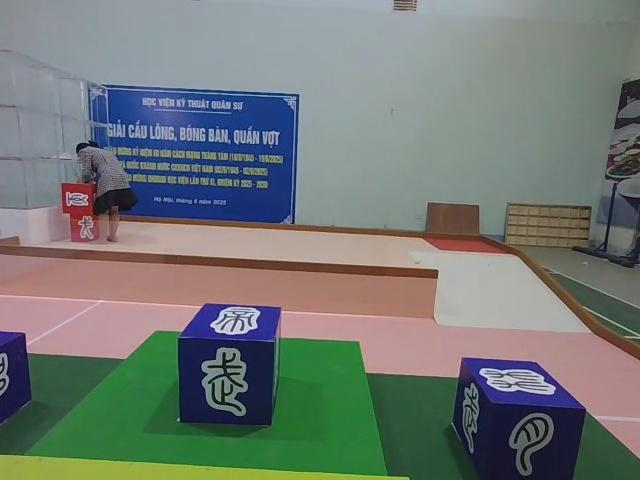R2 Fake Blue: (456, 361, 588, 480), (176, 305, 281, 429)
